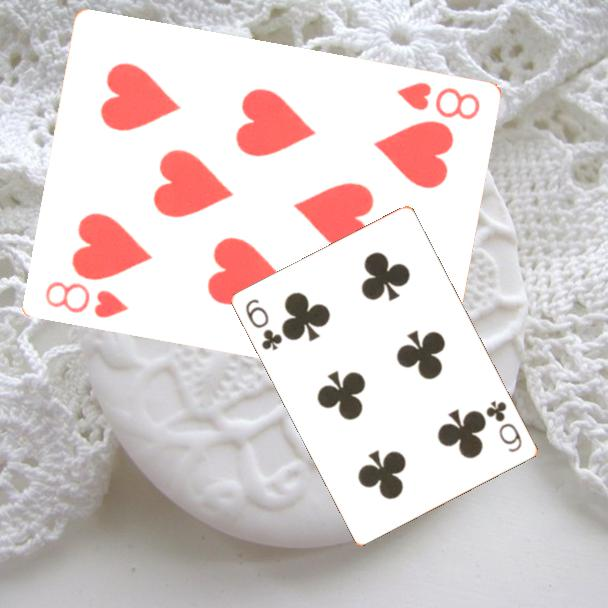c06: (242, 295, 286, 354), (482, 397, 525, 455)
h08: (41, 278, 131, 322), (393, 79, 483, 123)
